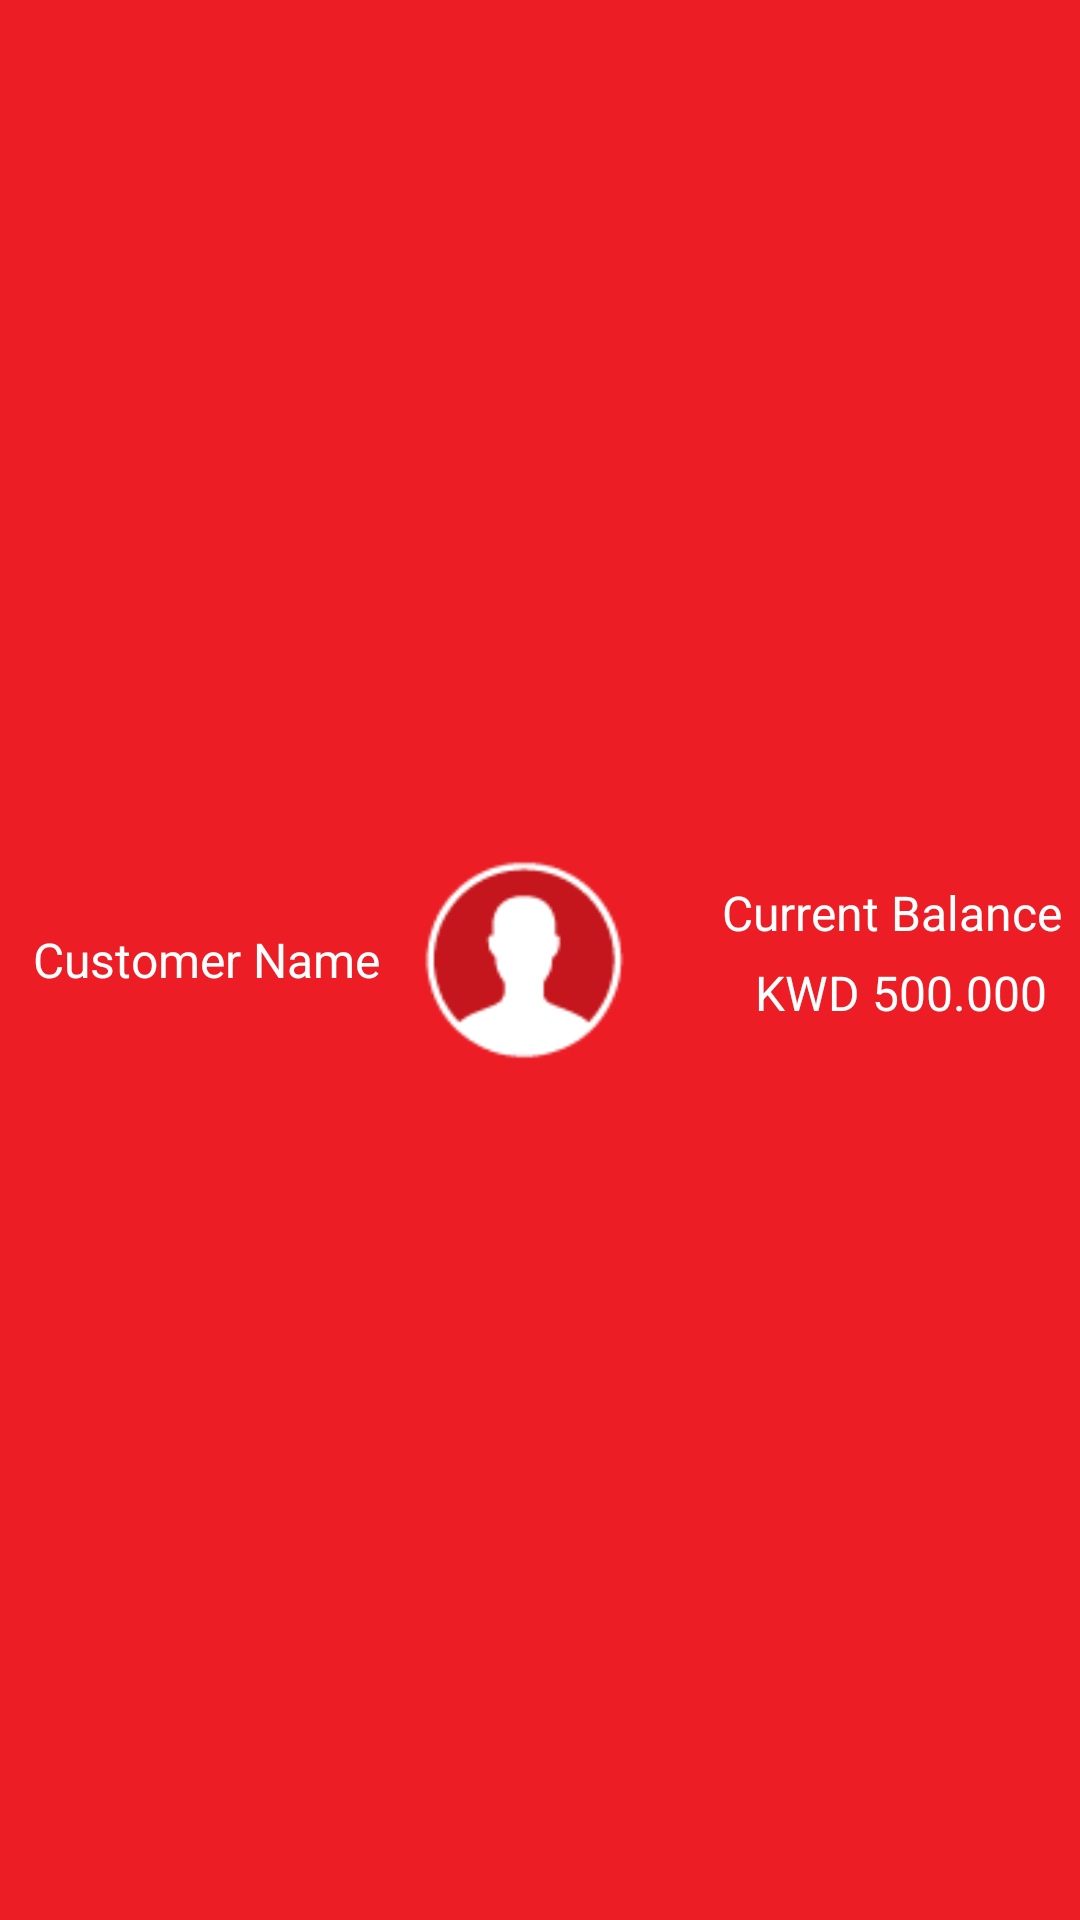

Where to tap for icons on this 1080w x 1920h app screen, as [x,y]:
profile: [524,960]
